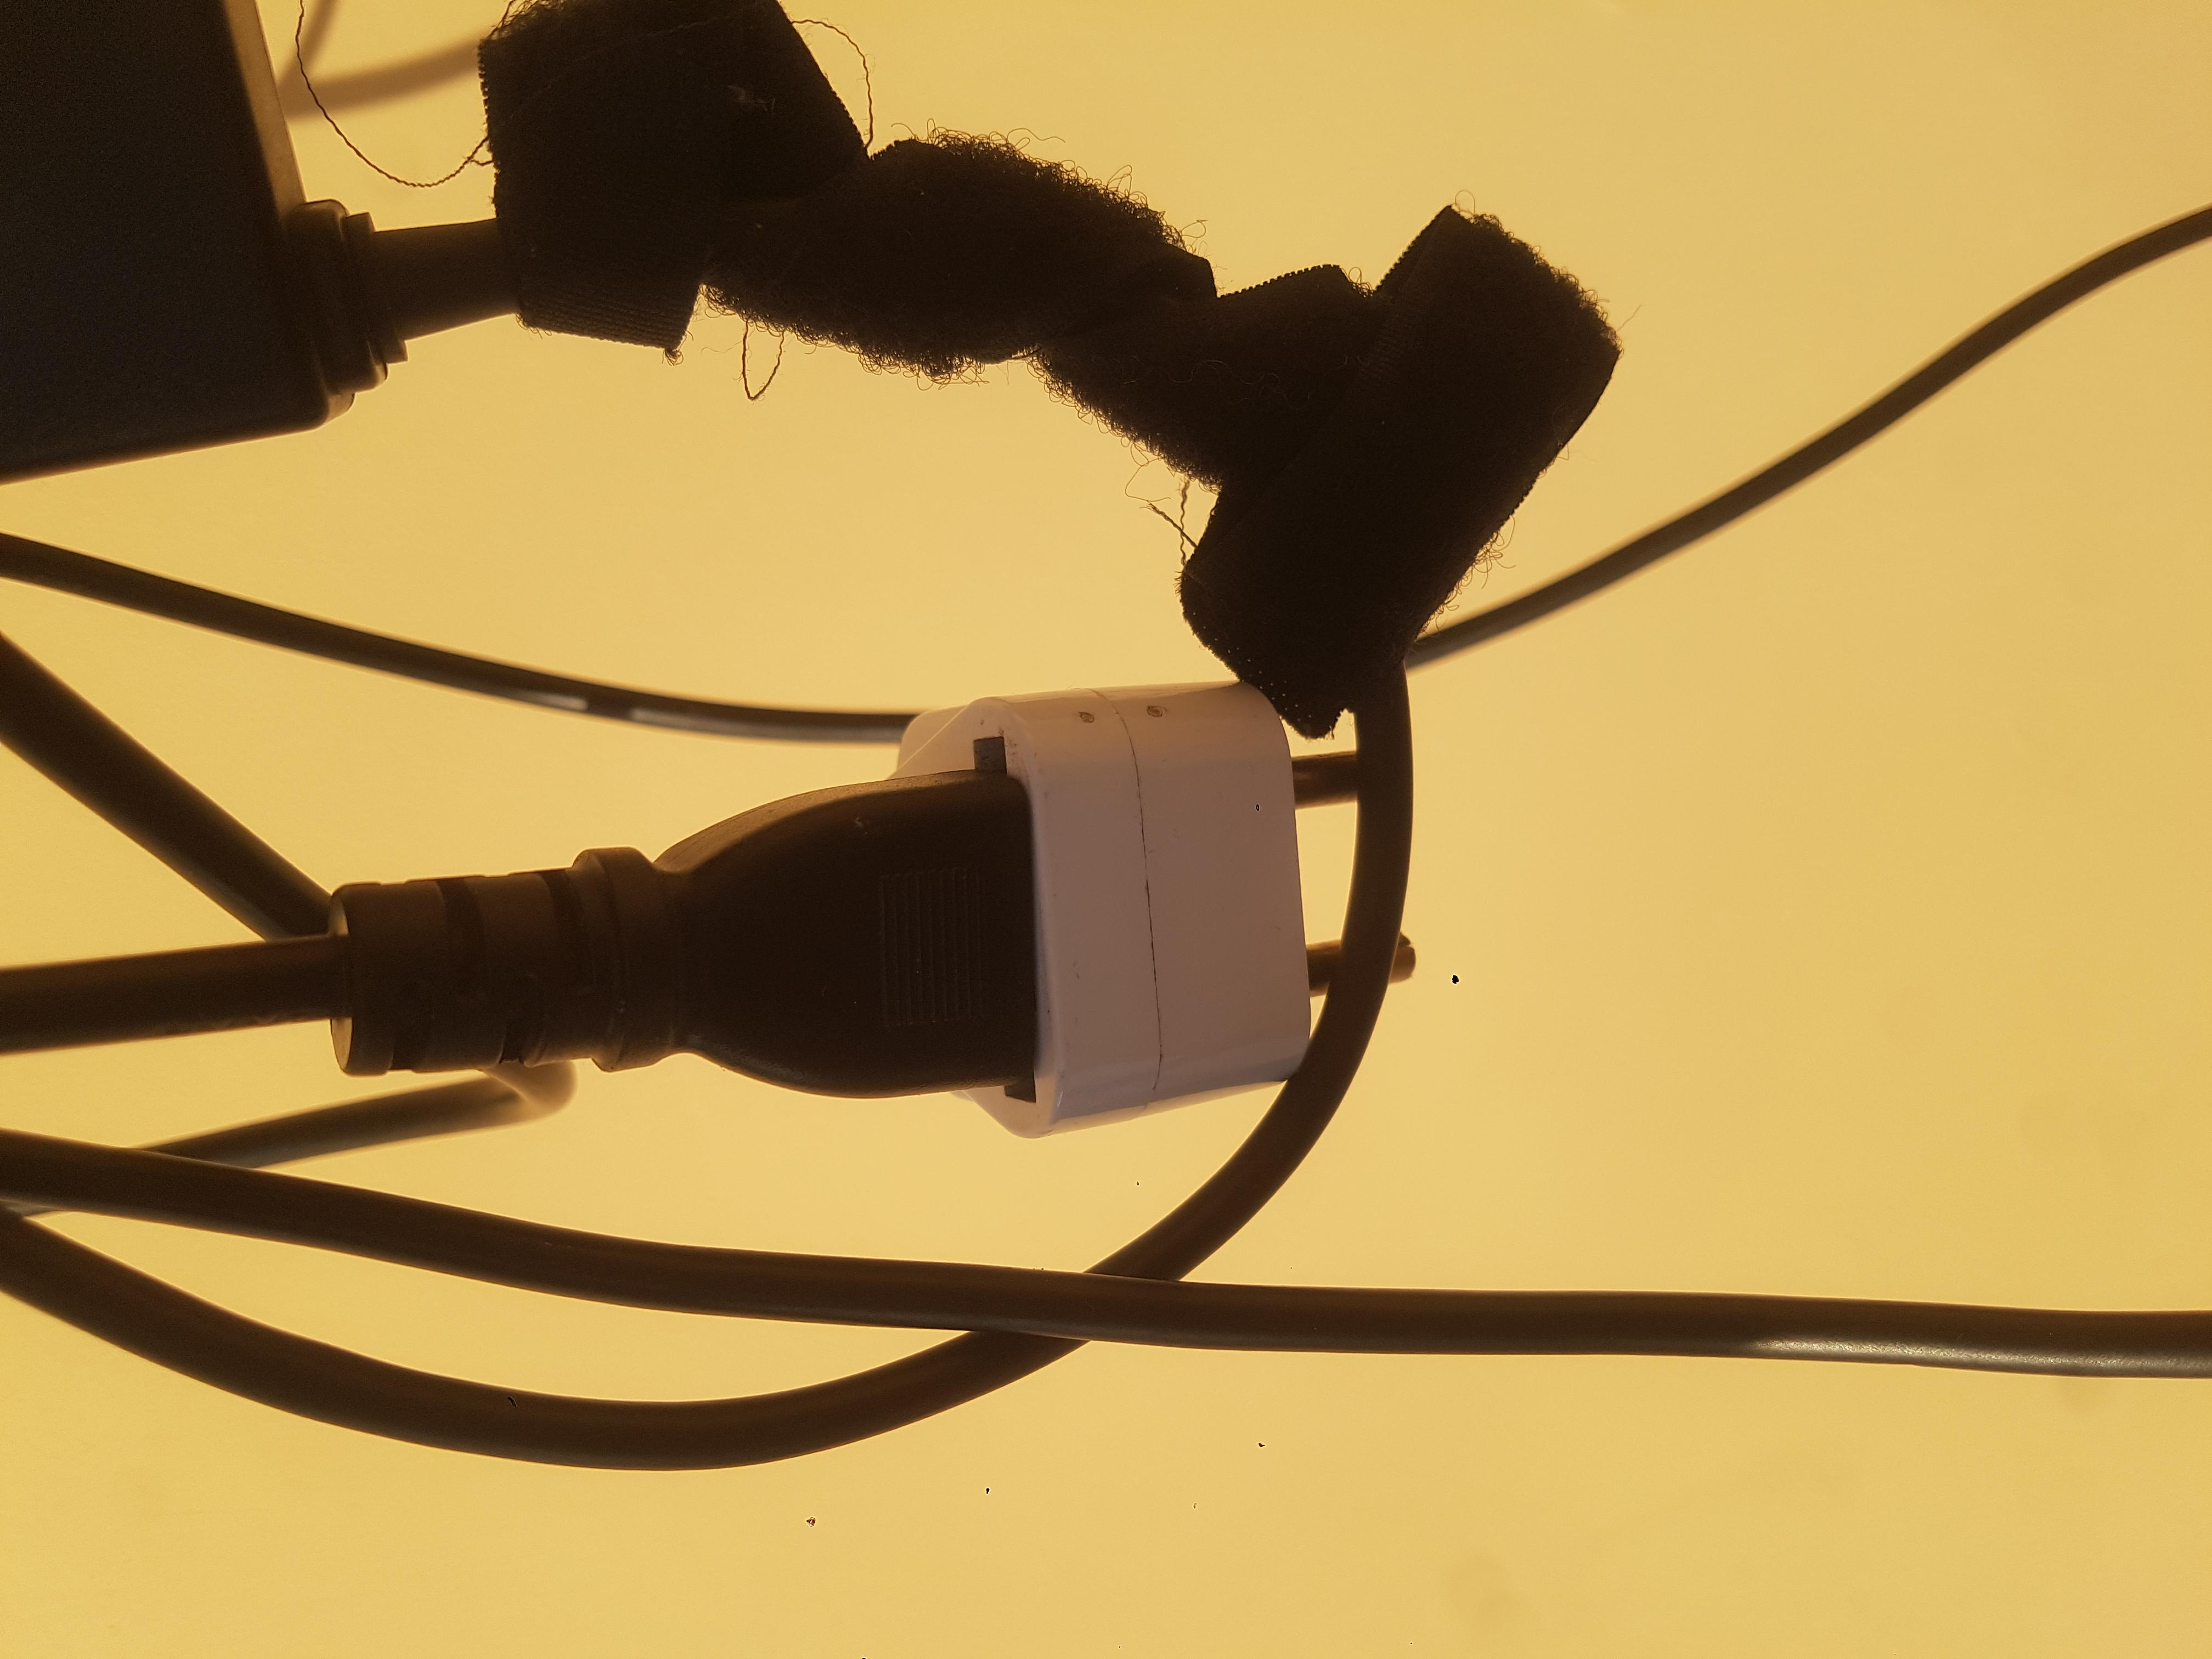electronic: (286, 0, 1456, 1354)
